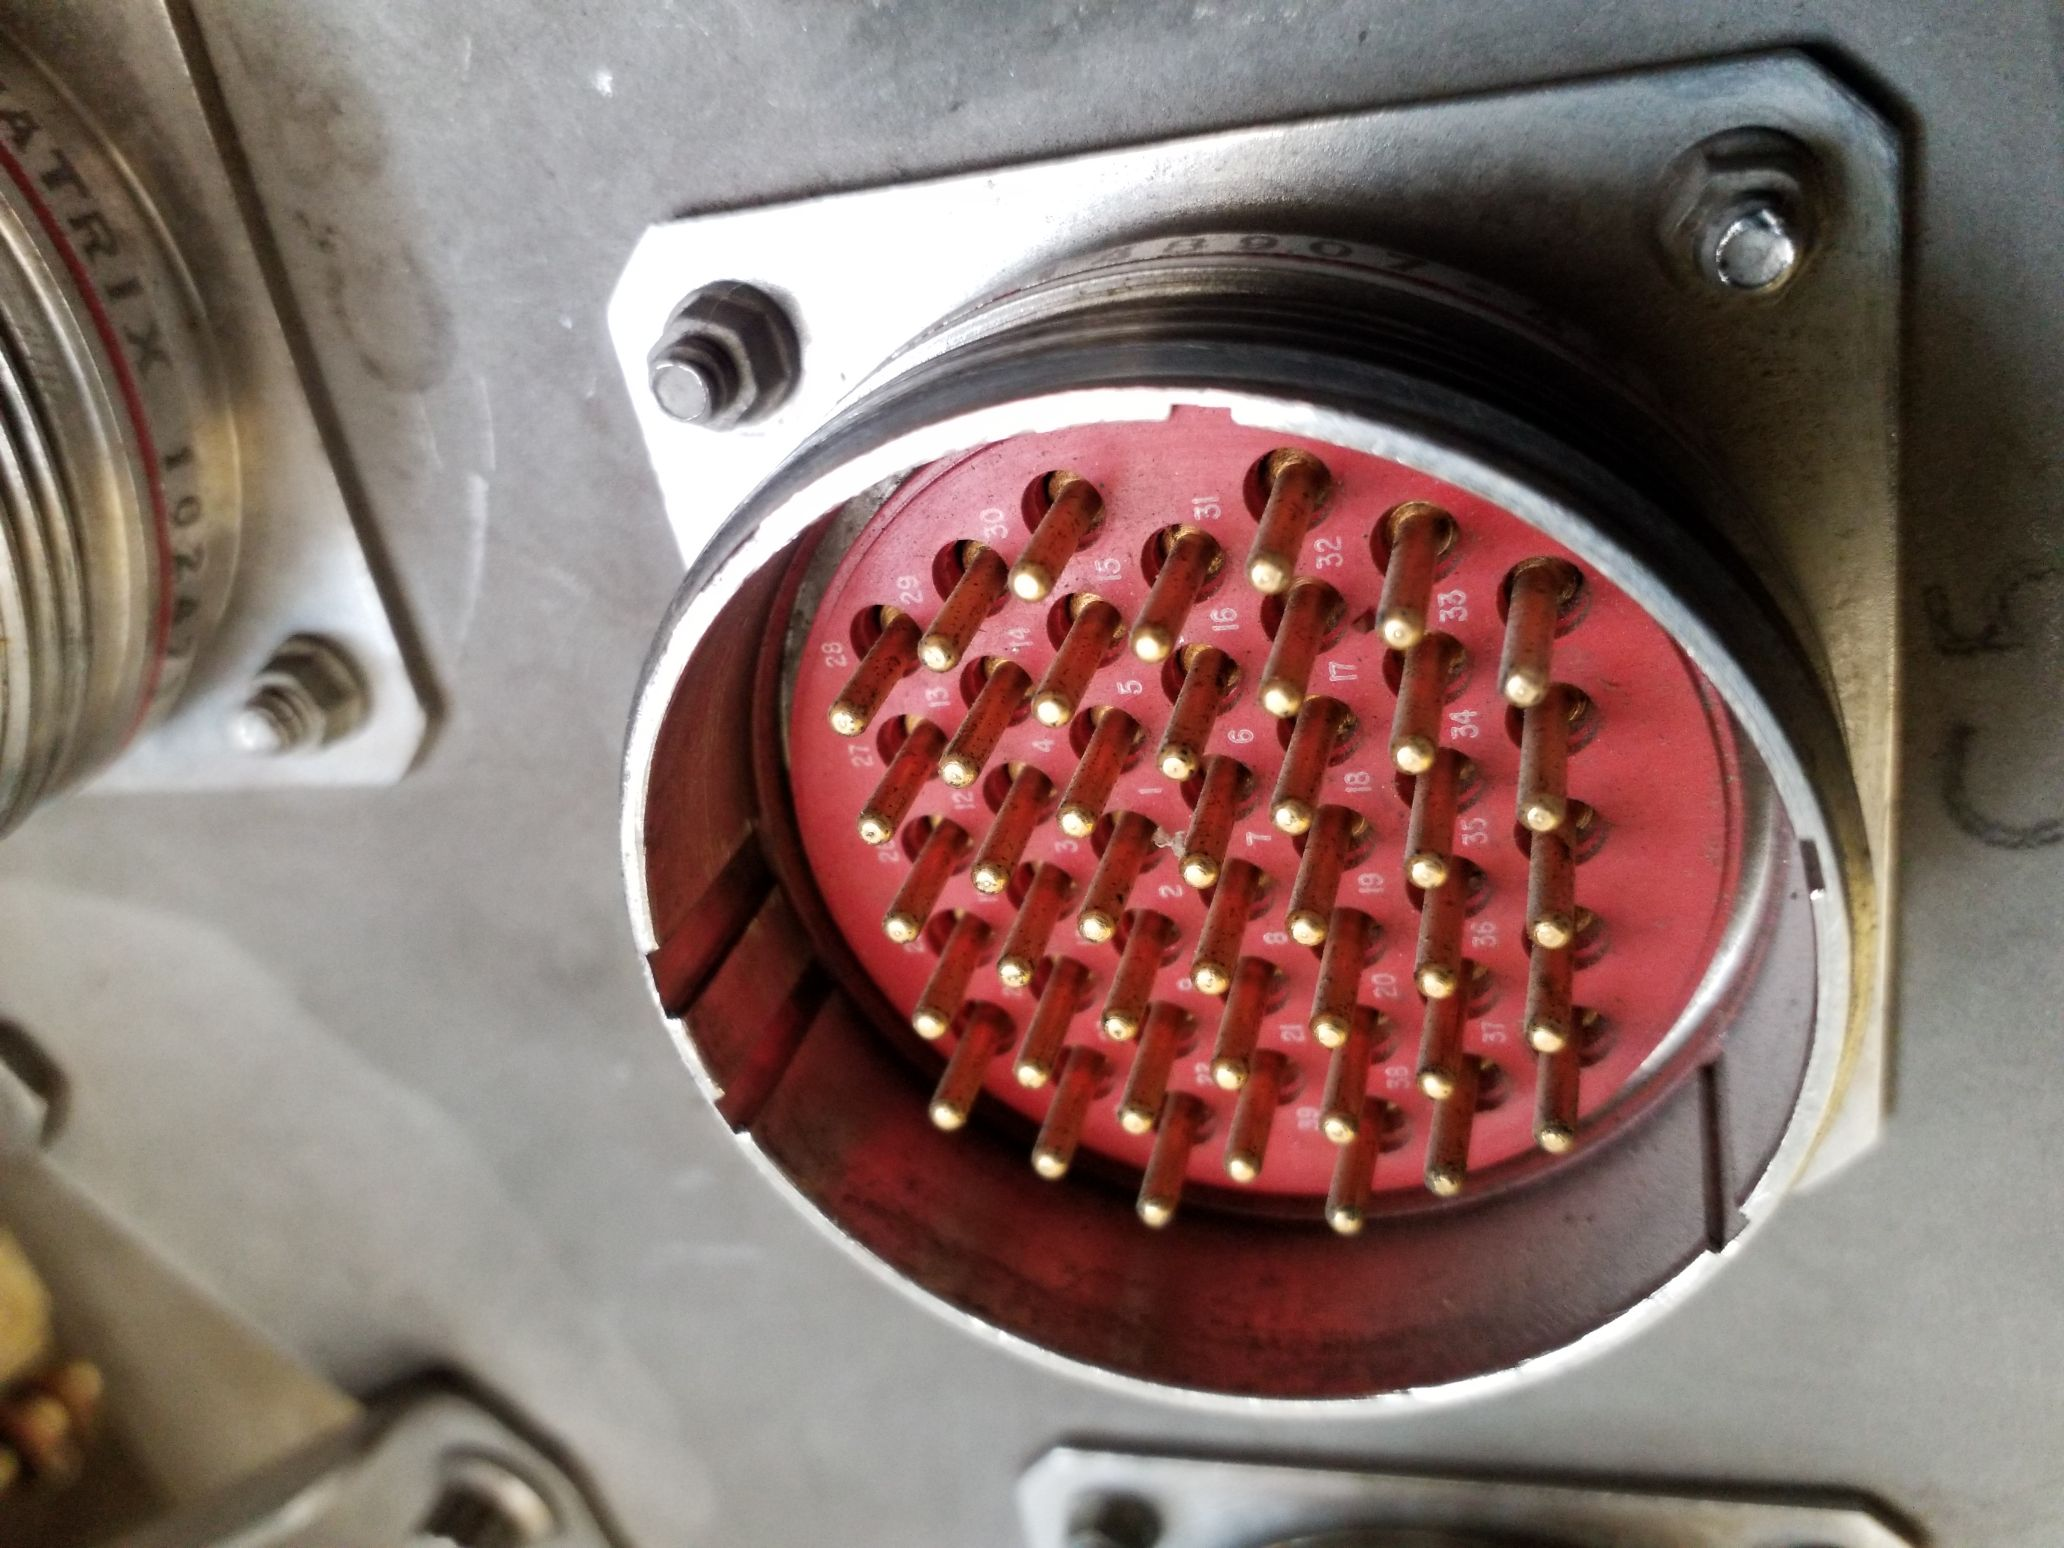outlet: (609, 210, 1901, 1428)
